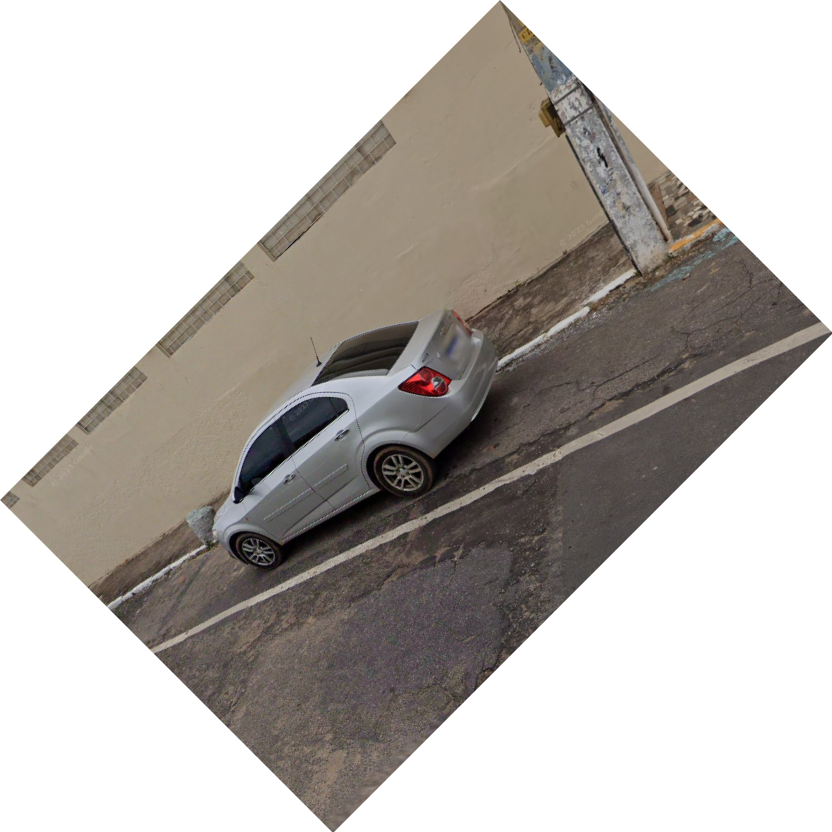car: (206, 304, 505, 584)
